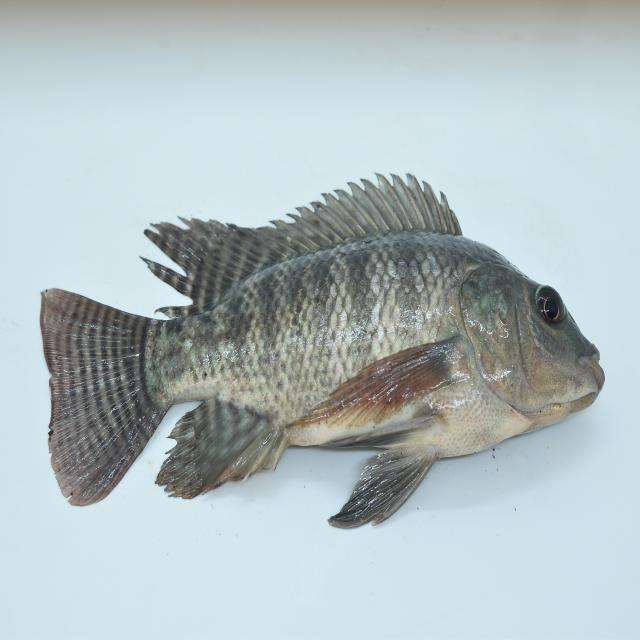Healthy Fish: (38, 171, 606, 534)
